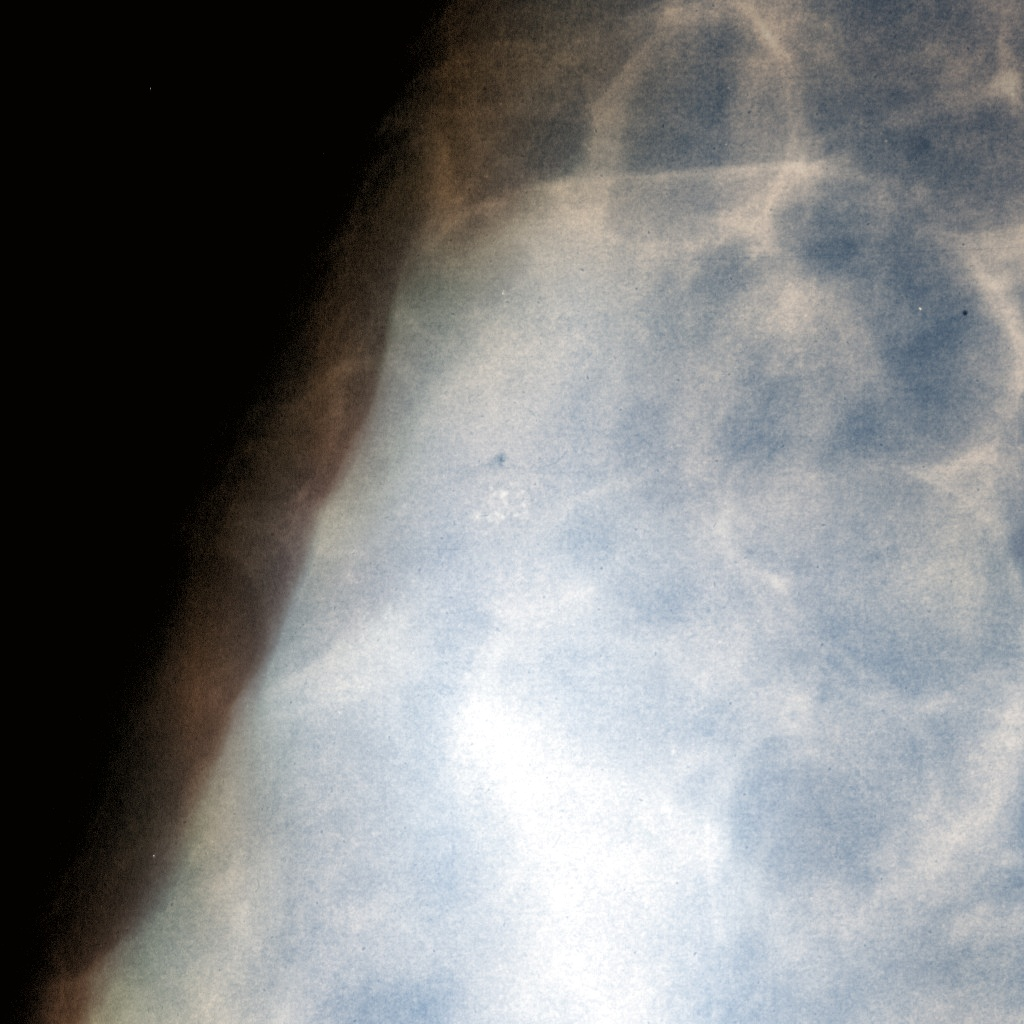tumor: (439, 459, 585, 565)
